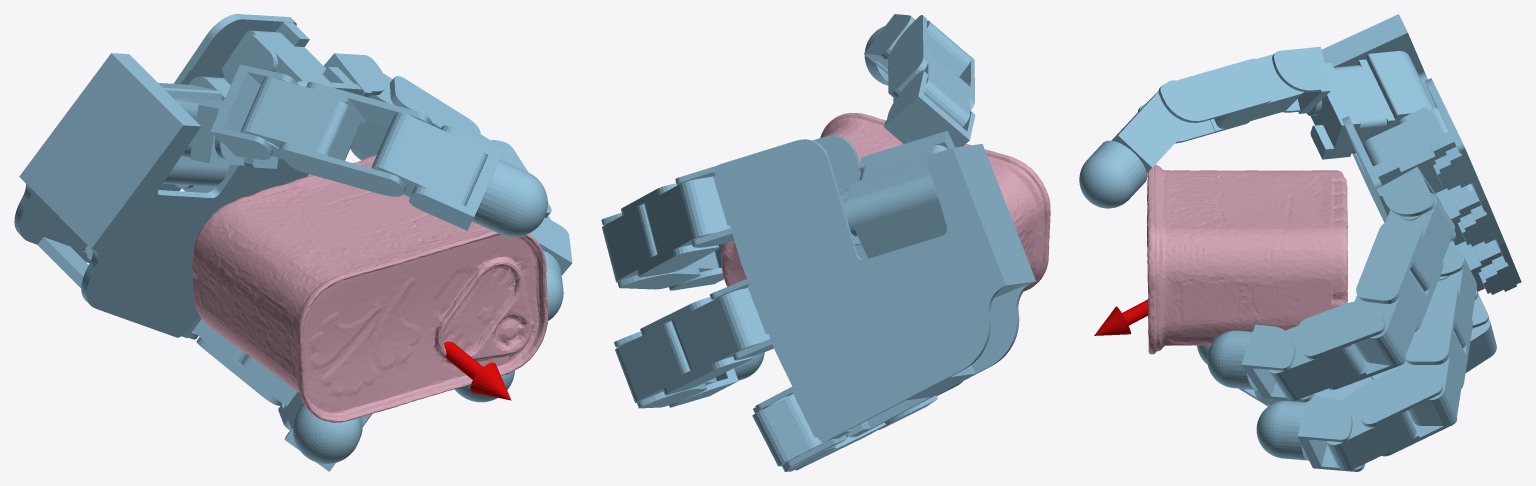
3 renders of one model, left to right at view 1: azimuth 30°, elevation 25°; view 2: azimuth 150°, elevation 25°; view 3: azimuth 270°, elevation 25°, orthographic. The views are drawn at different scales.
Visible parts, largest first — view 1: world, potted_meat_can.stl; view 2: world, potted_meat_can.stl; view 3: world, potted_meat_can.stl.
Part boxes in pixels (x1,y1,x2,y2): world: [14, 14, 572, 471]; potted_meat_can.stl: [191, 155, 548, 422]; world: [601, 14, 1035, 471]; potted_meat_can.stl: [720, 113, 1050, 291]; world: [1079, 14, 1521, 471]; potted_meat_can.stl: [1147, 164, 1347, 354].
Size of the model in its own units: 0.19 by 0.1618 by 0.1837.
